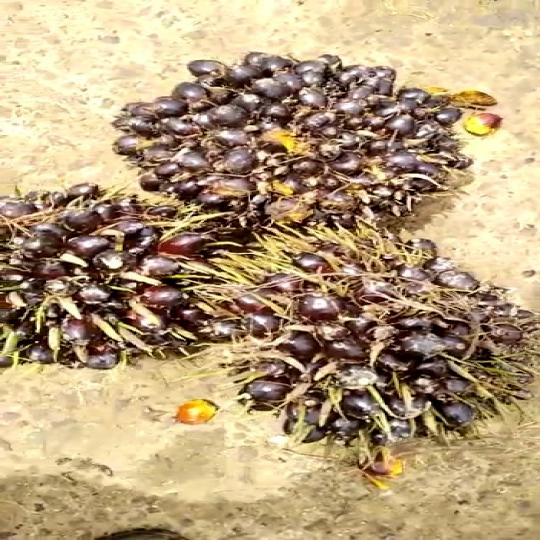mentah: (180, 224, 540, 457), (105, 42, 481, 237), (0, 181, 256, 376)
